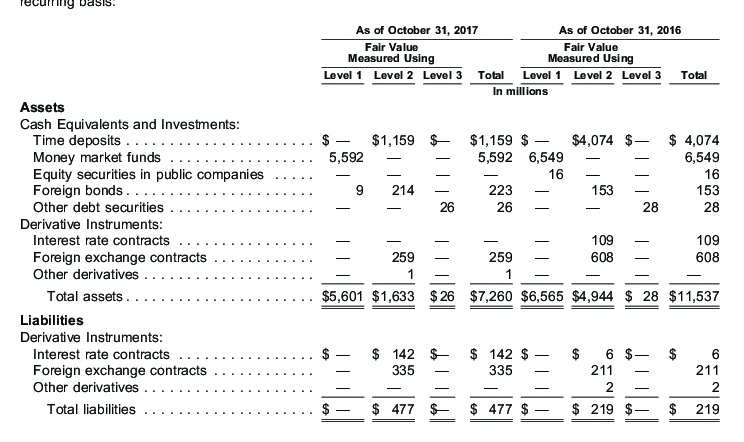table: (0, 0, 744, 442)
